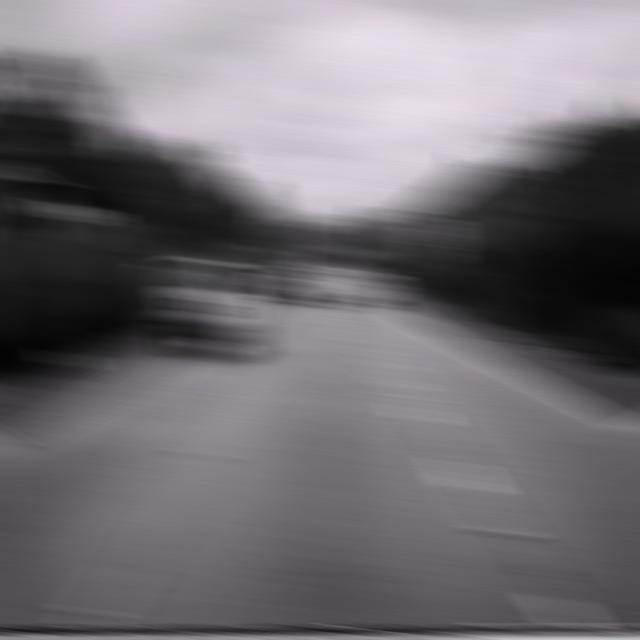speedLimit65: (411, 212, 451, 250)
